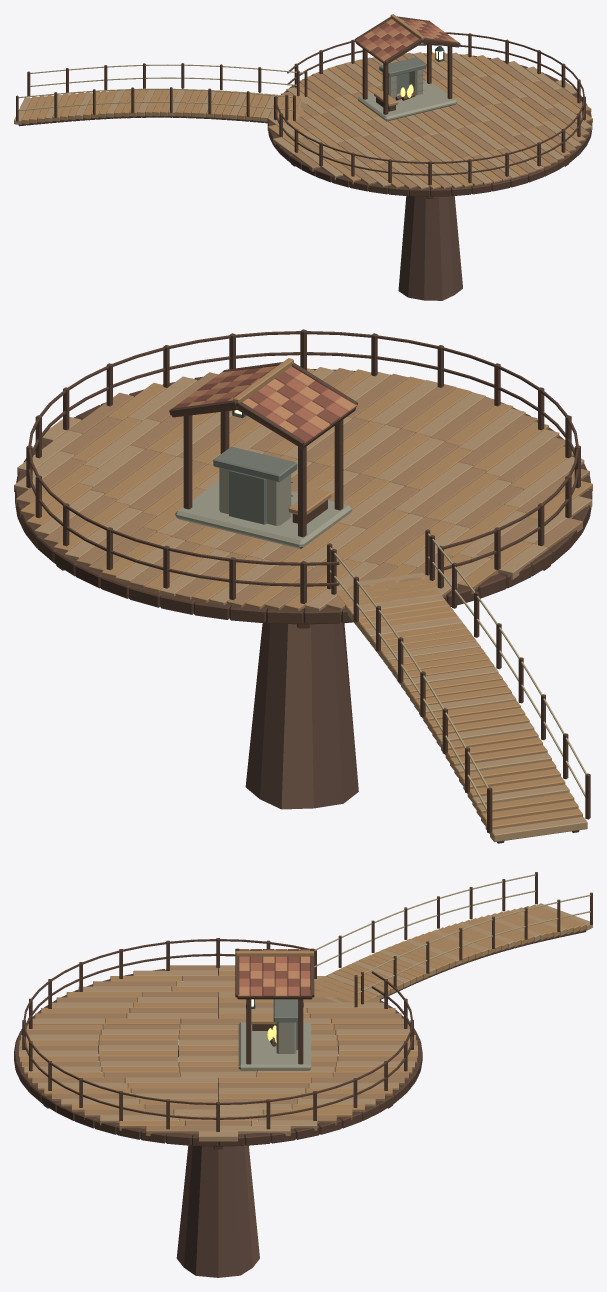
Rendered from hearth-deck-64bdc8e0.glb.
The picture shows the model from 3 angles, top to bottom: view 1: azimuth 30°, elevation 25°; view 2: azimuth 150°, elevation 25°; view 3: azimuth 270°, elevation 25°; orthographic projection. The views are drawn at different scales.
Parts seen in each view (by area): view 1: Ember_Hearth_Deck; view 2: Ember_Hearth_Deck; view 3: Ember_Hearth_Deck.
Part boxes in pixels (x1,y1,x2,y2): Ember_Hearth_Deck: (14,14,592,300); Ember_Hearth_Deck: (14,329,592,843); Ember_Hearth_Deck: (14,872,592,1277).
Size of the model in its own units: 18.7 by 10.23 by 17.37.
